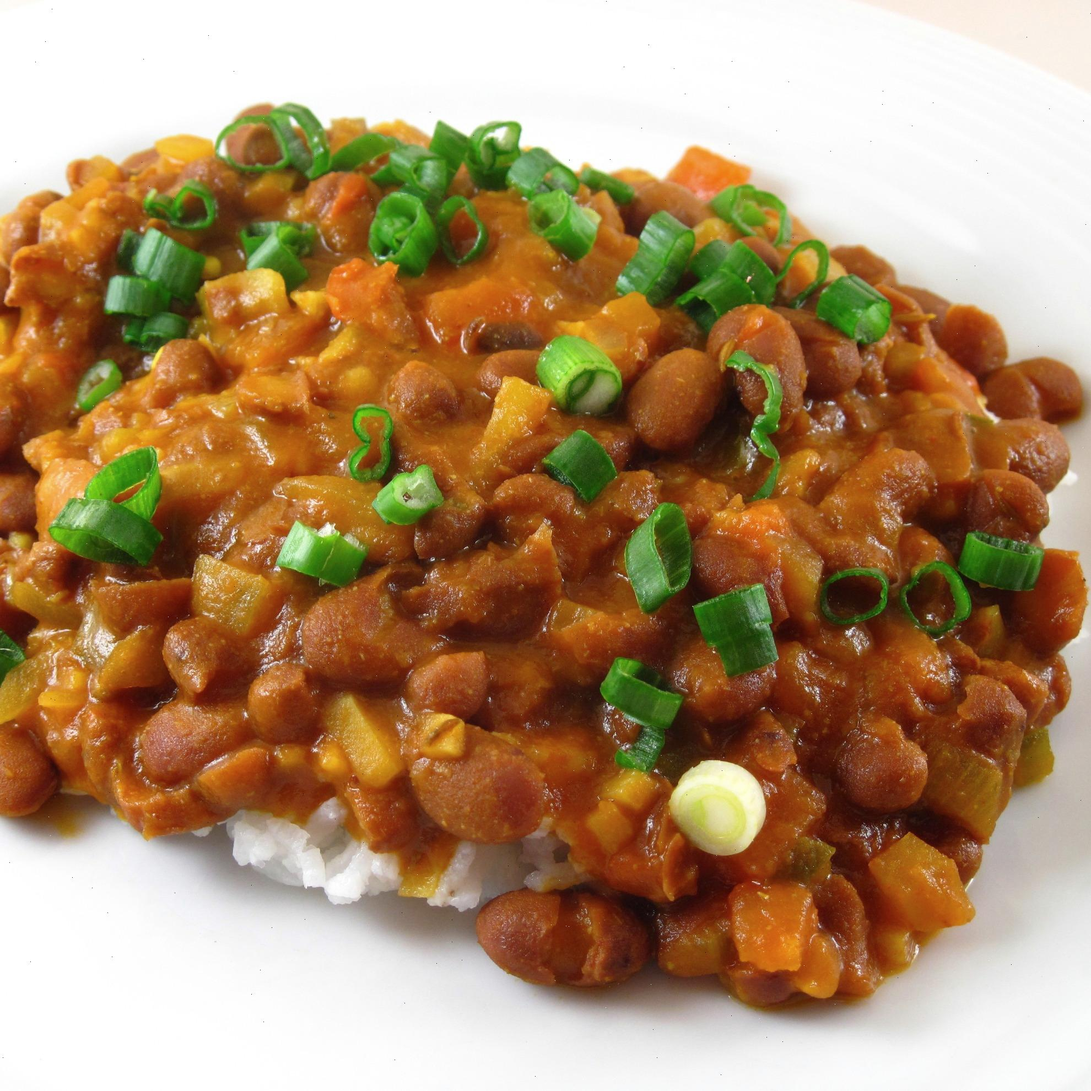rajma: (17, 113, 1091, 838)
